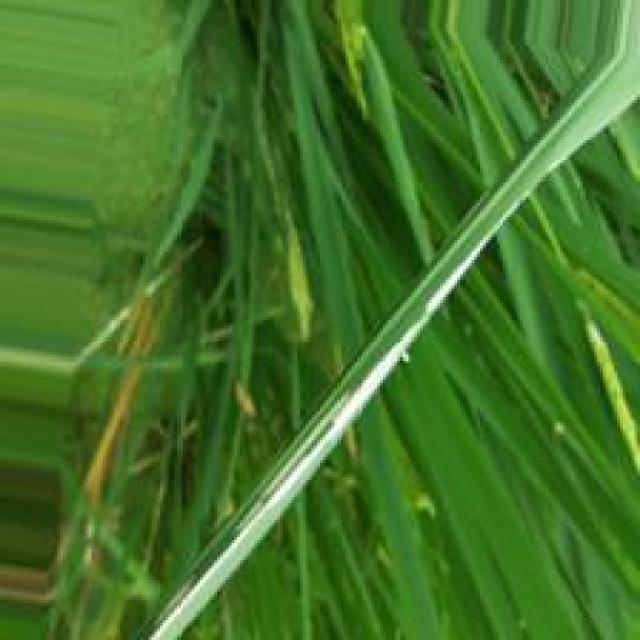Rice_Hispa: (152, 242, 485, 640)
